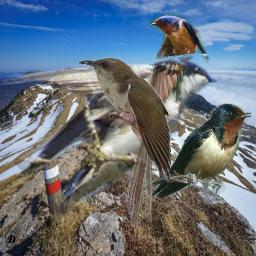Cuckoo: (78, 56, 171, 226)
Swallow: (4, 56, 219, 220), (131, 103, 252, 198), (141, 14, 210, 124)
